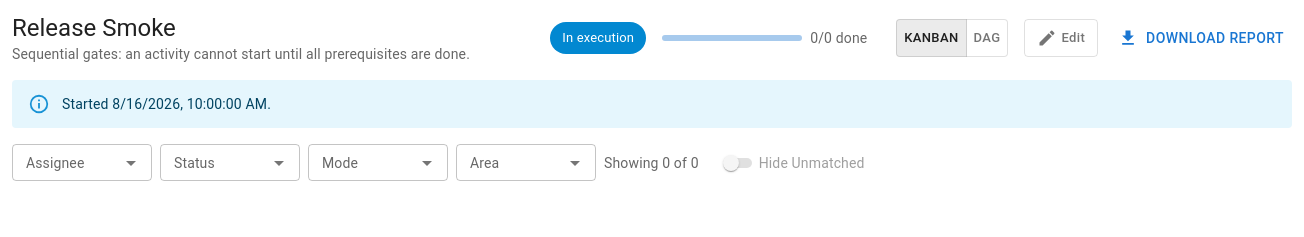
it: em execução a edição é um toggle (Edit liga e desliga)
The image size is (1304, 237).
expect the heading "Release Smoke" is shown: met, box [12, 12, 176, 44]
expect the button "Add step" is not shown: met
// Edit habilita a edição
What coordinates should you click on to do the following:
click the button "Edit"
I would click on:
 (1061, 38)
Its box is [1024, 19, 1098, 57].
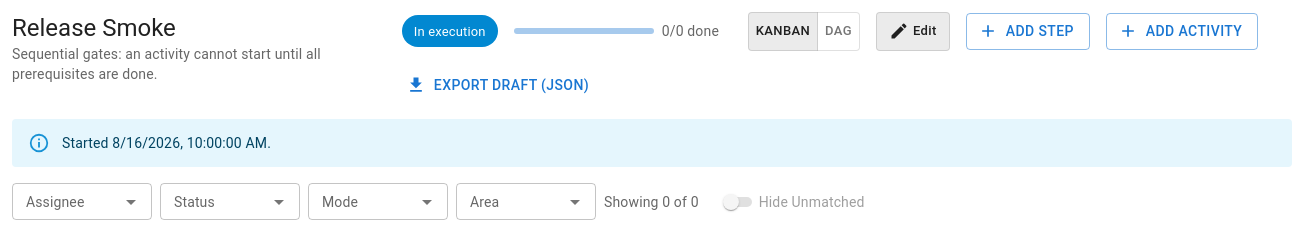
expect the button "Add step" is shown: met, box [966, 13, 1090, 50]
expect the button "Add activity" is shown: met, box [1106, 13, 1258, 50]
What coordinates should you click on to do the following:
click the button "Edit"
I would click on:
 (913, 31)
Its box is [876, 12, 950, 51].
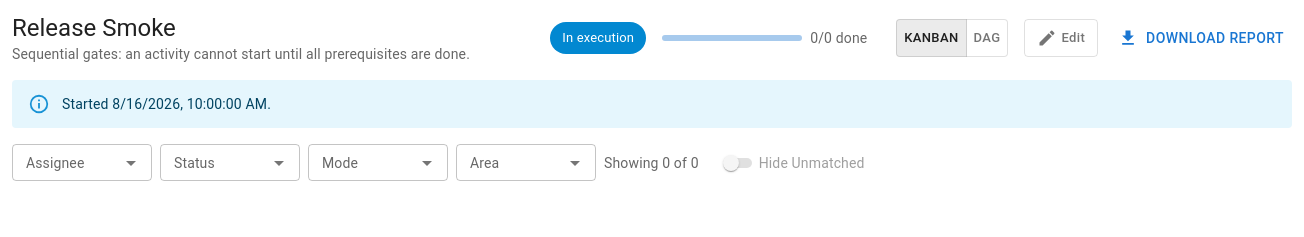
expect the button "Add step" is gone: met
